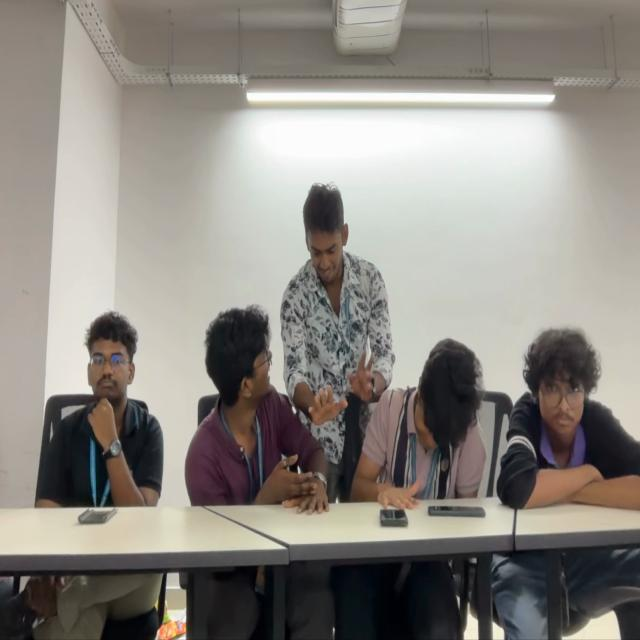Isolated: (498, 328, 640, 509), (37, 310, 165, 508)
socializing: (187, 185, 486, 500)
